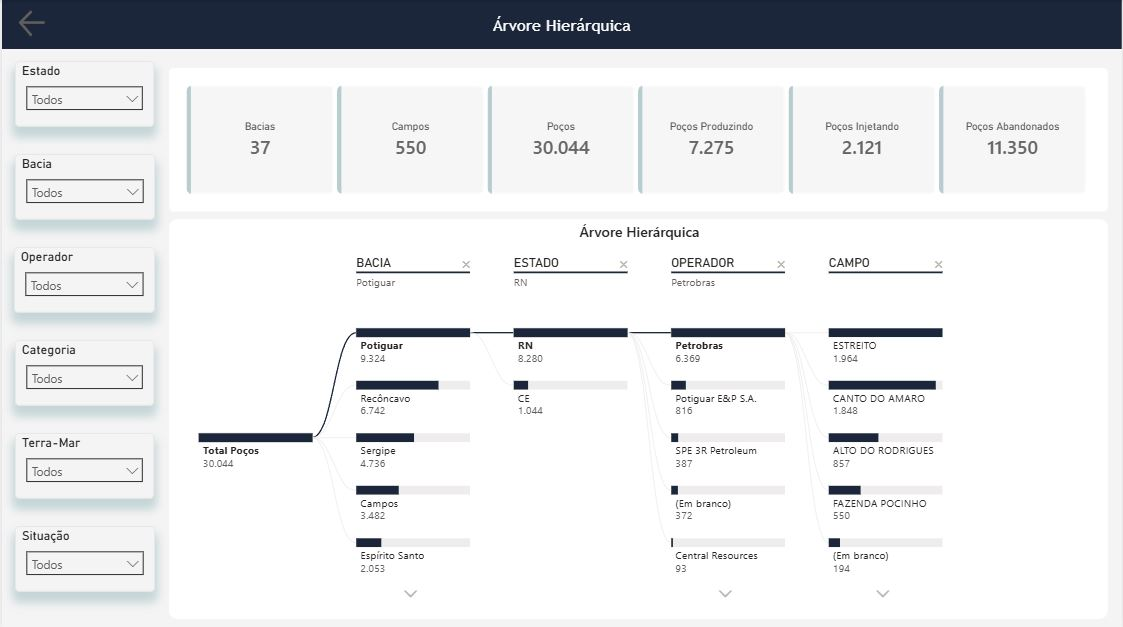

The page's visual inventory and layout, read from the dashboard file:
{"tool":"powerbi","page":{"name":"Árvore Hierárquica","canvas":[1280,720],"ordinal":4},"visuals":[{"type":"cardVisual","fields":{"Data":["Medidas.Contagem Bacias","Medidas.Total Campos","Medidas.Contagem Pocos","Medidas.Poços Produzindo","Medidas.Poços Injetando","Medidas.Poços Abandonados"]},"box":[191.4,77.5,1073.2,164.1],"z":0},{"type":"shape","box":[0,0,1279.7,56.4],"z":1000},{"type":"decompositionTreeVisual","title":"Árvore Hierárquica","fields":{"Analyze":["medidas.Total Poços"],"ExplainBy":["fato_pocos.BACIA","fato_pocos.ESTADO","fato_pocos.OPERADOR","fato_pocos.CAMPO"]},"box":[191.4,250.6,1073.2,456.8],"z":2000},{"type":"actionButton","box":[14.5,7.2,56.7,39.8],"z":3000},{"type":"slicer","title":"Categoria","fields":{"Values":["fato_pocos.CATEGORIA"]},"box":[14.6,388.4,159.5,75.2],"z":4000},{"type":"slicer","title":"Estado","fields":{"Values":["fato_pocos.ESTADO"]},"box":[14.6,69.5,159.5,75.2],"z":5000},{"type":"slicer","title":"Terra-Mar","fields":{"Values":["fato_pocos.TERRA_MAR"]},"box":[14.6,494.8,159.5,75.2],"z":6000},{"type":"slicer","title":"Operador","fields":{"Values":["fato_pocos.OPERADOR"]},"box":[14,282,160.6,75.2],"z":7000},{"type":"slicer","title":"Situação","fields":{"Values":["fato_pocos.SITUACAO"]},"box":[14.3,601.2,160,75],"z":8000},{"type":"slicer","title":"Bacia","fields":{"Values":["fato_pocos.BACIA"]},"box":[14.3,175.9,160,75],"z":9000}]}

Visuals, with their boxes in screenshot pixels (x1, y1, x2, y2), scaled from the page's 1280x720 canvas onto the 1123x627 screenshot:
cardVisual - Medidas.Contagem Bacias x Medidas.Total Campos: (left=168, top=67, right=1109, bottom=210)
shape: (left=0, top=0, right=1122, bottom=49)
"Árvore Hierárquica" decompositionTreeVisual: (left=168, top=218, right=1109, bottom=616)
actionButton: (left=13, top=6, right=62, bottom=41)
"Categoria" slicer: (left=13, top=338, right=153, bottom=404)
"Estado" slicer: (left=13, top=61, right=153, bottom=126)
"Terra-Mar" slicer: (left=13, top=431, right=153, bottom=496)
"Operador" slicer: (left=12, top=246, right=153, bottom=311)
"Situação" slicer: (left=13, top=524, right=153, bottom=589)
"Bacia" slicer: (left=13, top=153, right=153, bottom=218)
